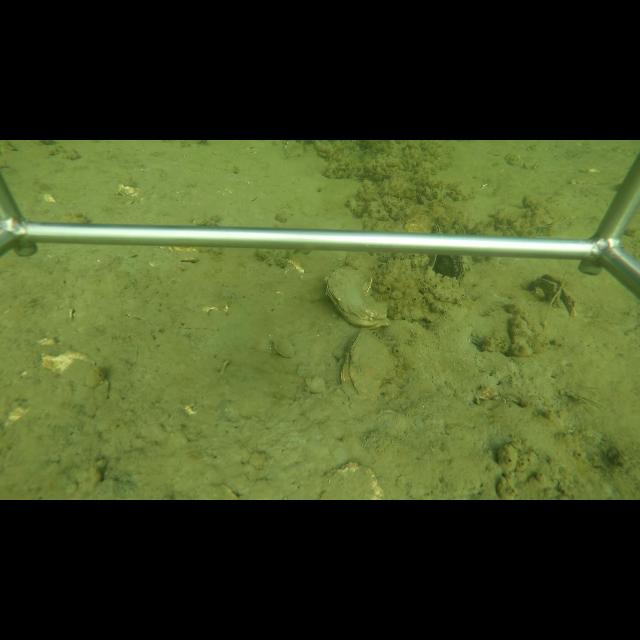Oyster-Closed: (338, 327, 401, 404), (320, 263, 392, 330), (433, 256, 472, 284)
Oyster-Open: (524, 270, 579, 320)
